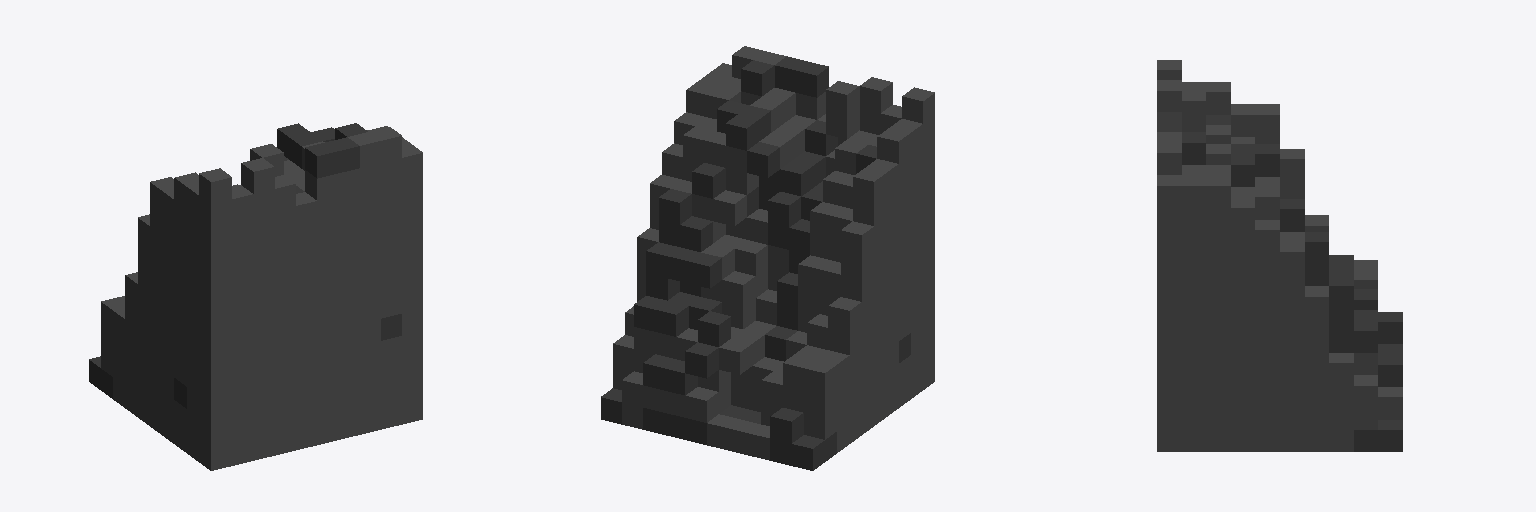
3 views of the same model, side by side, from view 1: azimuth 30°, elevation 25°; view 2: azimuth 150°, elevation 25°; view 3: azimuth 270°, elevation 25° (orthographic).
Parts seen in each view (by area): view 1: object 1; view 2: object 1; view 3: object 1.
Part boxes in pixels (bbox=[...]): object 1: bbox=[89, 123, 422, 470]; object 1: bbox=[601, 46, 934, 470]; object 1: bbox=[1157, 60, 1402, 451].
Size of the model in its own units: 1 by 1.3 by 1.
Materials: 1 (1 with a texture image).